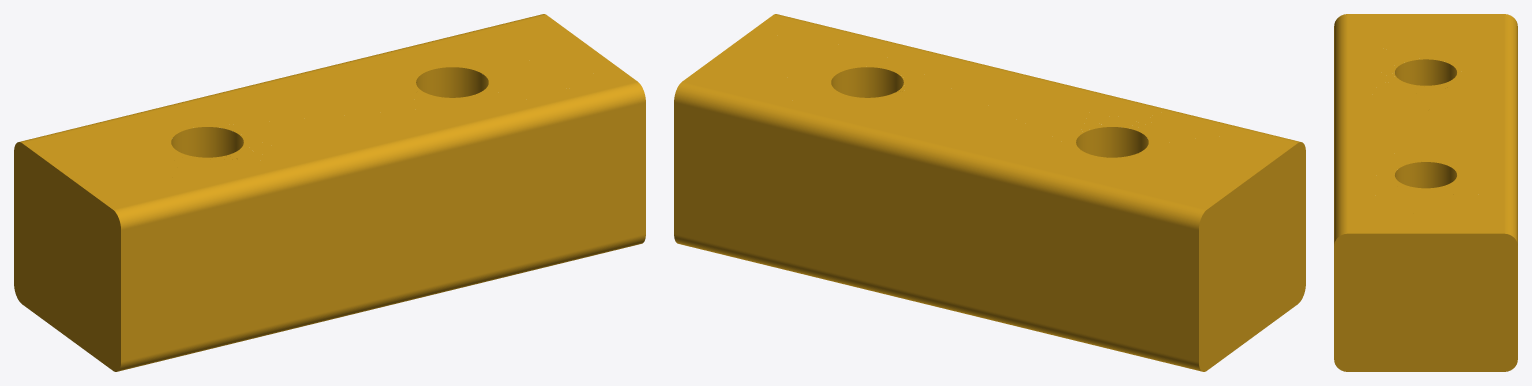
File: takoz-montabert-brh-501-side-buffer-02.glb
3 renders of one model, left to right at view 1: azimuth 30°, elevation 25°; view 2: azimuth 150°, elevation 25°; view 3: azimuth 270°, elevation 25°, orthographic. The views are drawn at different scales.
Parts seen in each view (by area): view 1: body; view 2: body; view 3: body.
Part boxes in pixels (left/top/right/bottom): body: left=14, top=14, right=645, bottom=371; body: left=674, top=14, right=1305, bottom=371; body: left=1334, top=14, right=1517, bottom=371.
Size of the model in its own units: 0.15 by 0.044 by 0.053.
